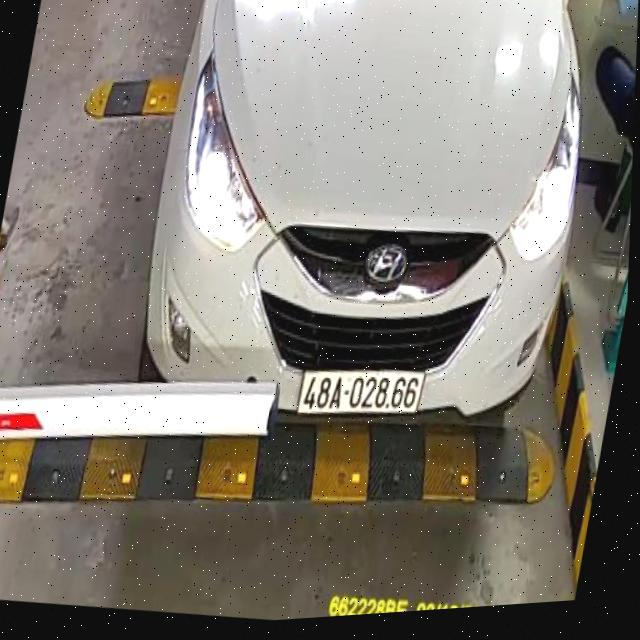car: (111, 0, 619, 482)
plate: (293, 352, 435, 432)
